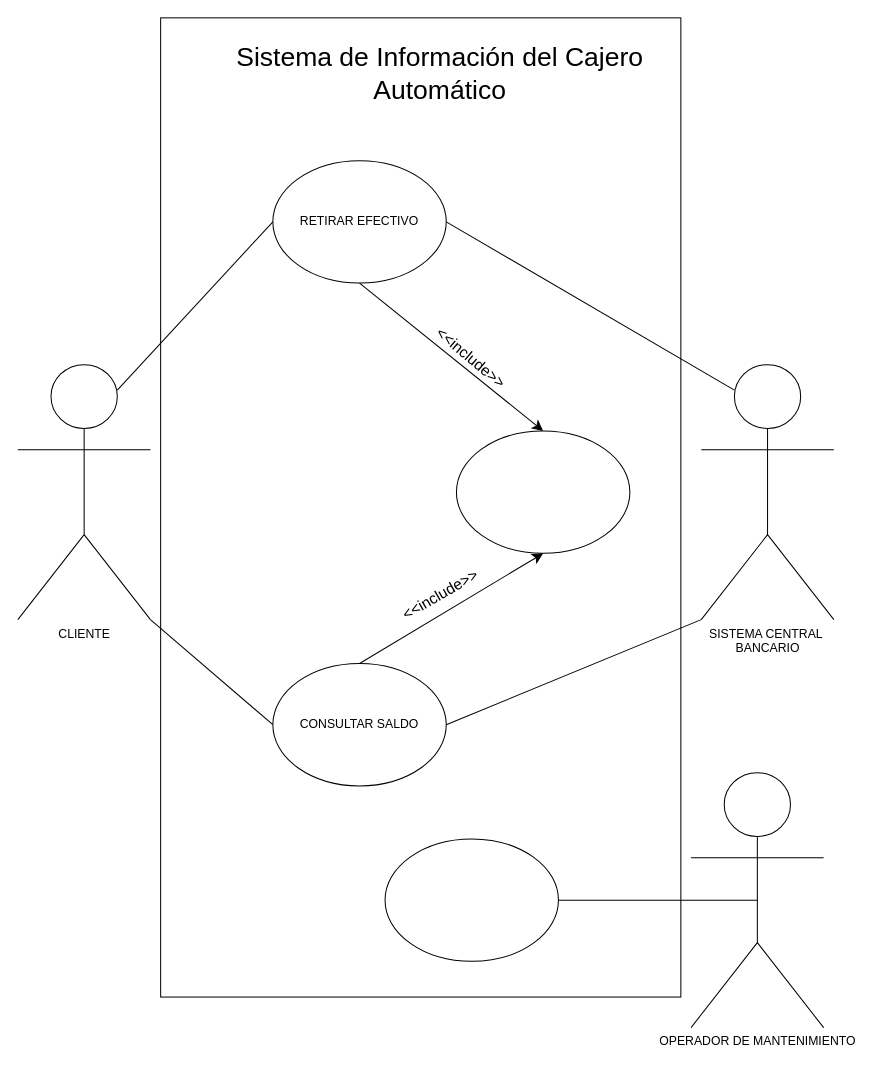
This 873x1067 diagram has some shape labels left out. Here are the shapes that lost their labels. From the top down, the centre of each, then its label:
At [542,491]: "AUTENTICAR CLIENTE".
At [471,899]: "ABASTECER EFECTIVO".
